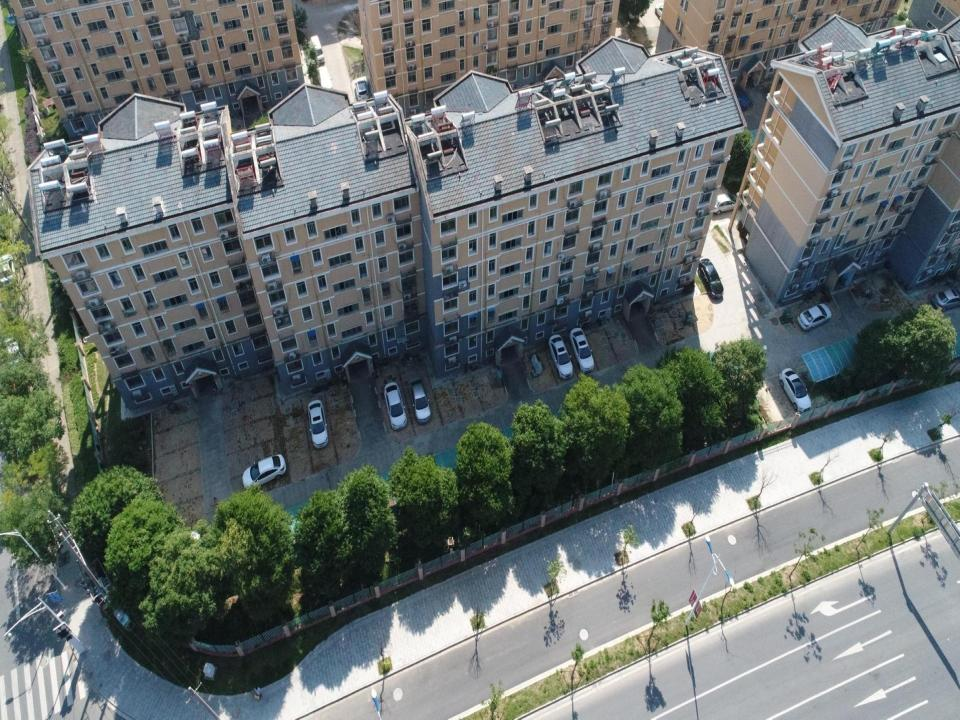car: (778, 365, 812, 415), (382, 377, 410, 431), (406, 374, 434, 426), (240, 455, 284, 488), (568, 324, 596, 372), (548, 333, 574, 380), (698, 256, 724, 302), (306, 402, 329, 450), (796, 302, 834, 330), (3, 334, 22, 366), (711, 193, 742, 212), (310, 34, 326, 68), (0, 253, 16, 287), (352, 78, 372, 104), (732, 85, 751, 109), (655, 2, 671, 25)
